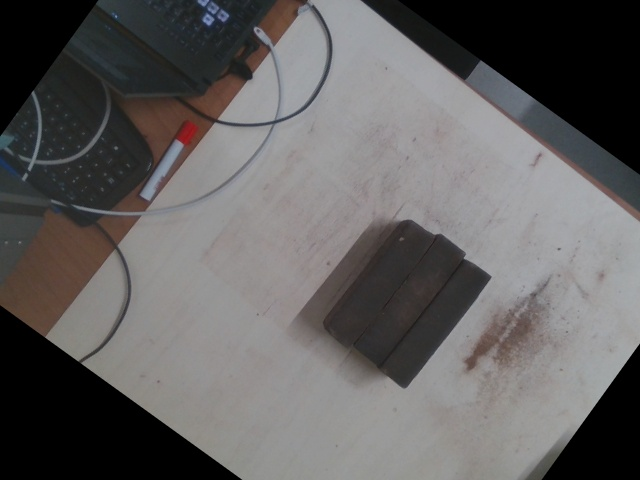brick-side: (355, 233, 467, 366), (325, 219, 436, 350), (382, 261, 491, 388)
